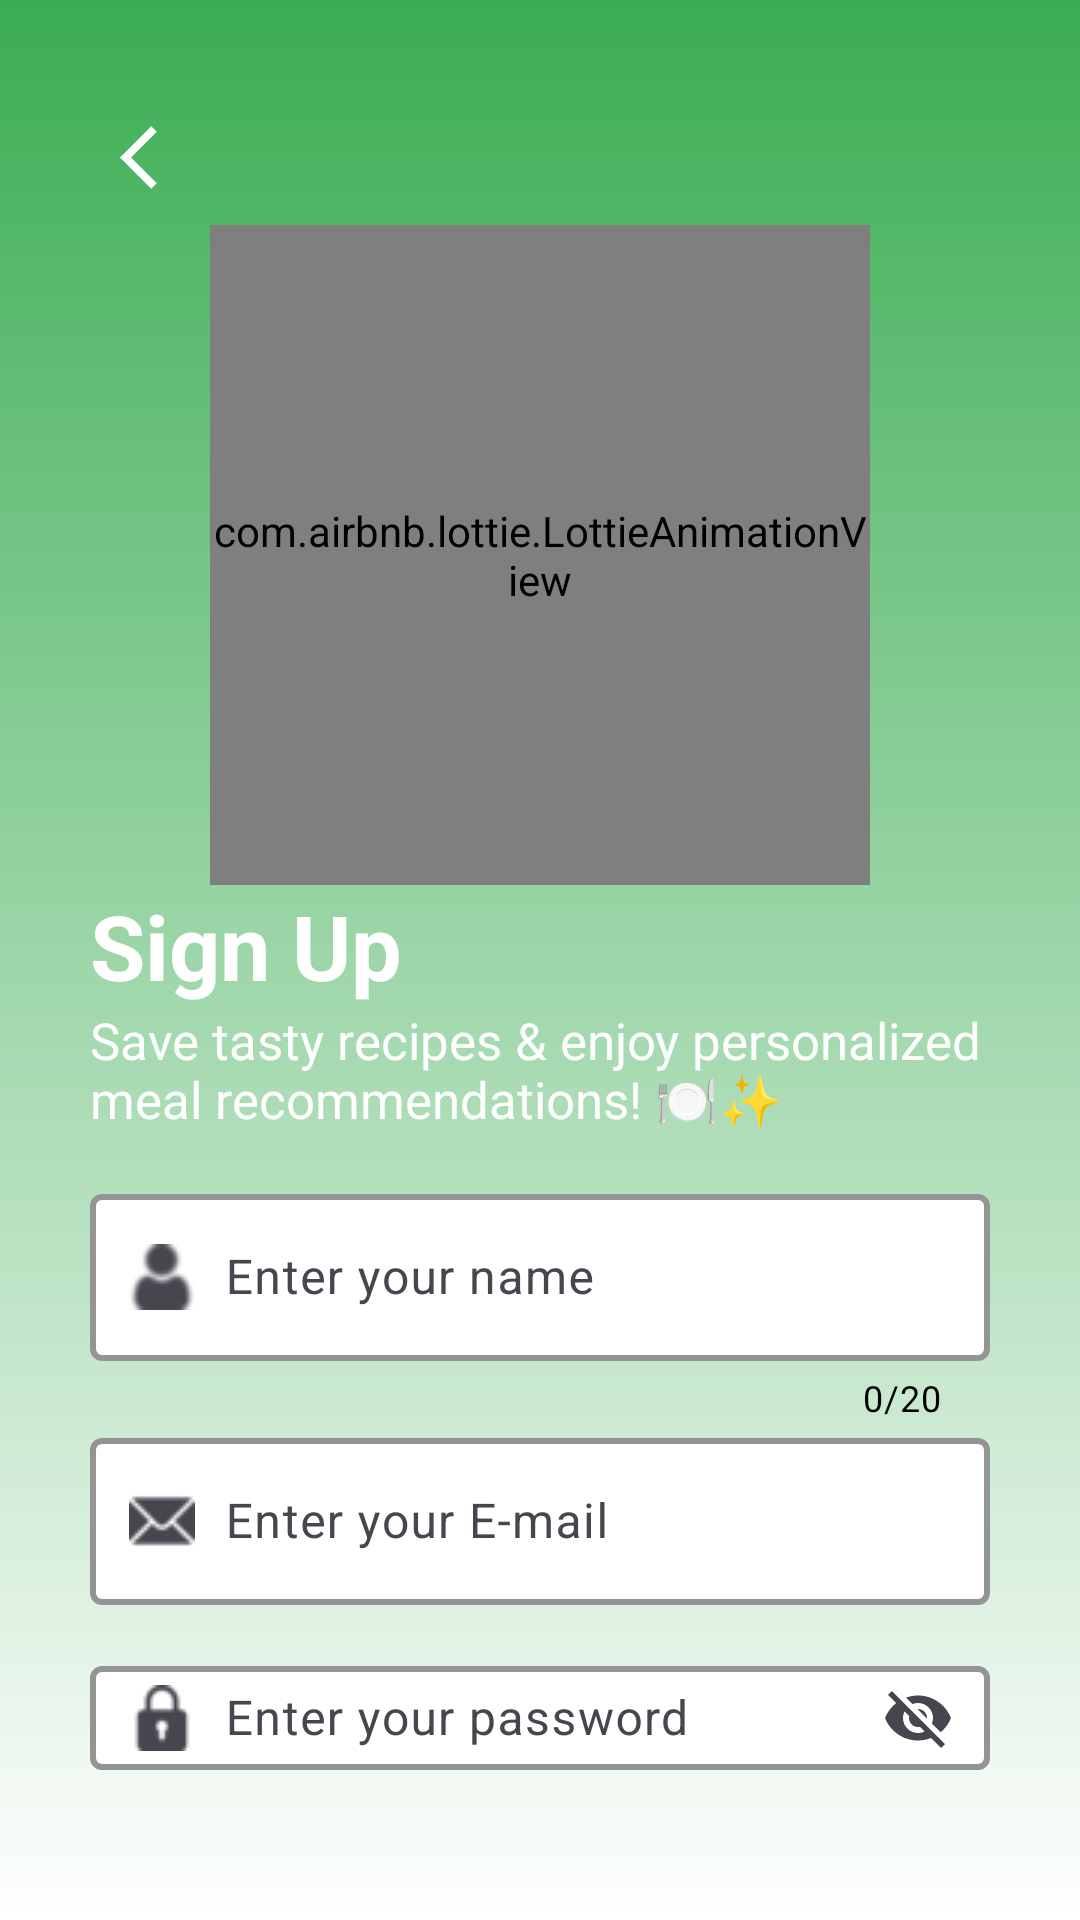

Named icons in this screenshot (1080px×1920px) and their centers, (x,y):
arrow back: (138,157)
